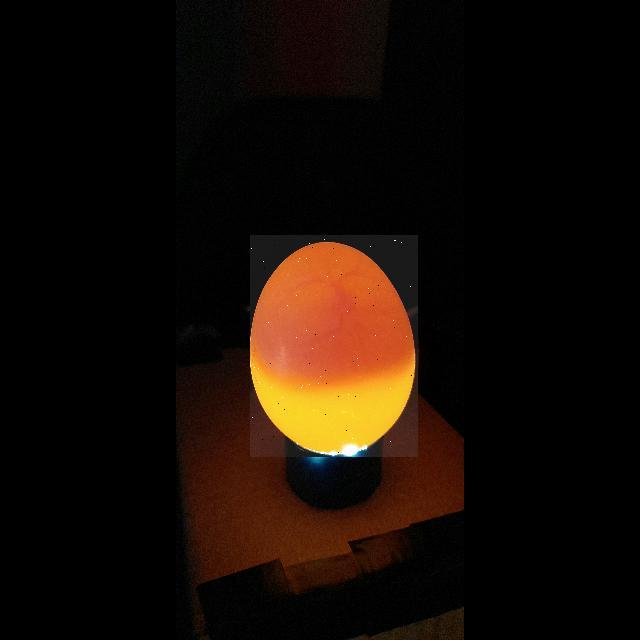Fertile: (250, 235, 418, 457)
